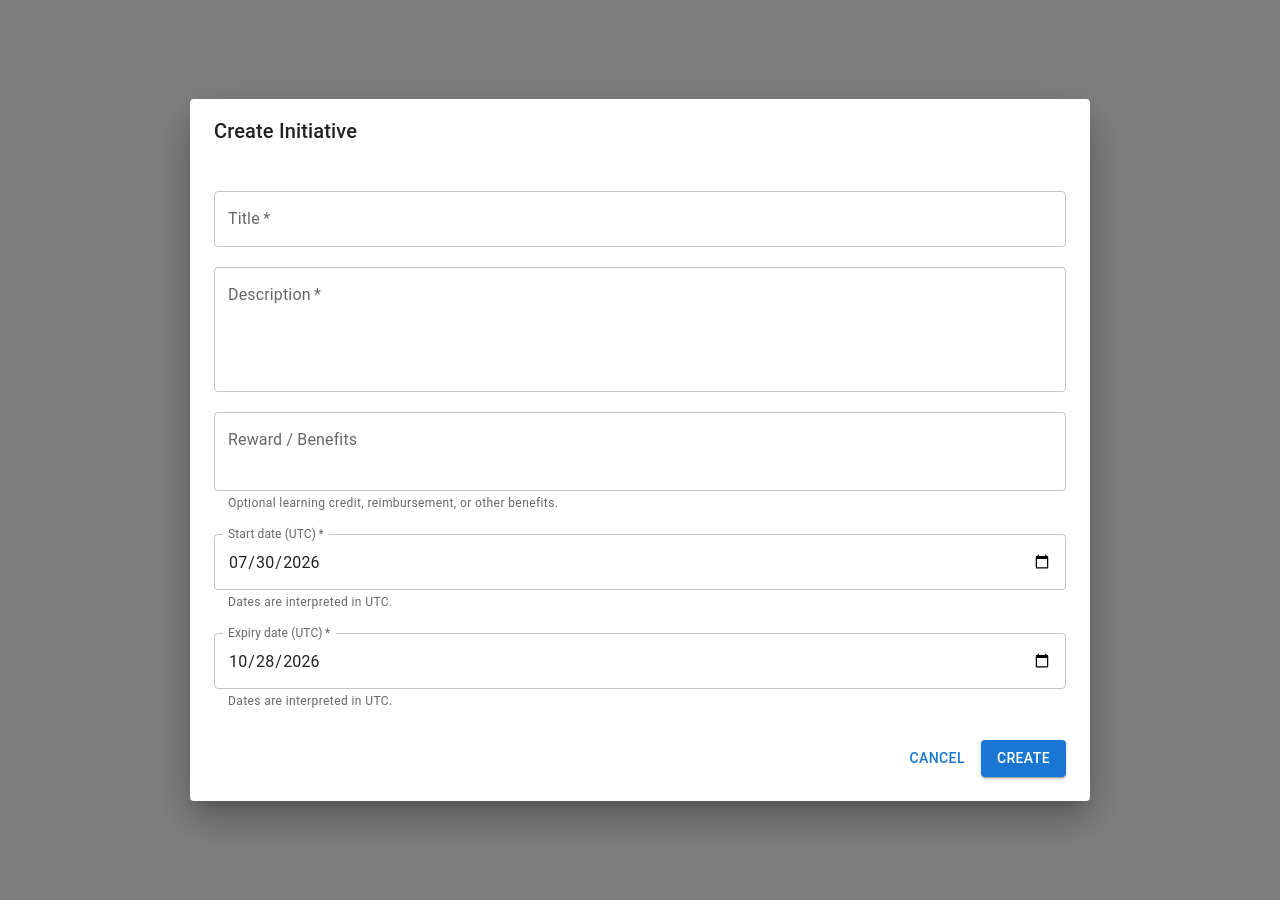
Test case: CreateInitiativeDialog › keeps create enabled and shows validation on submit
Click the button "Create" at (1023, 758), box [981,740,1066,777]
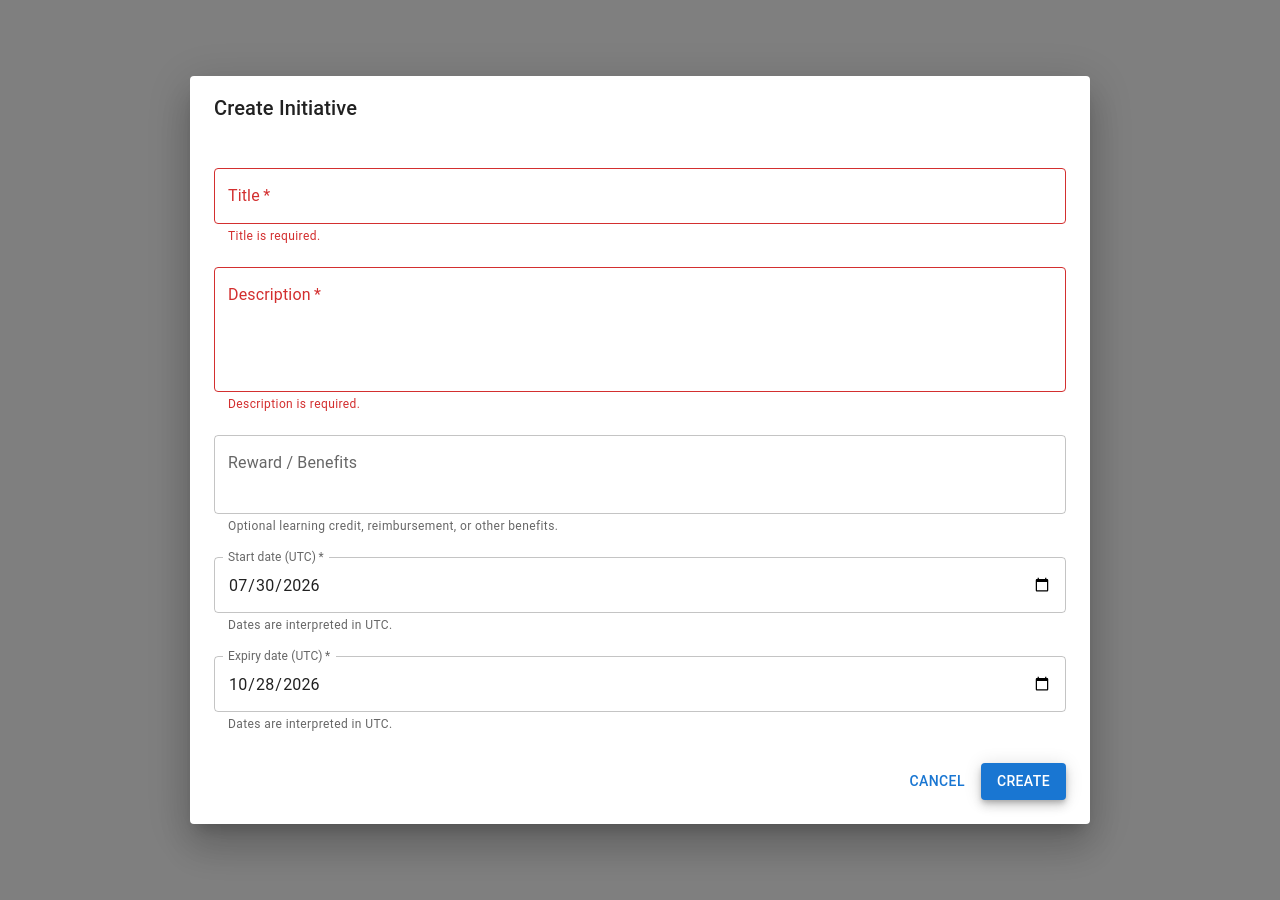
expect the text "Title is required." is shown: met, box [228,230,320,244]
expect the text "Description is required." is shown: met, box [228,397,360,411]
